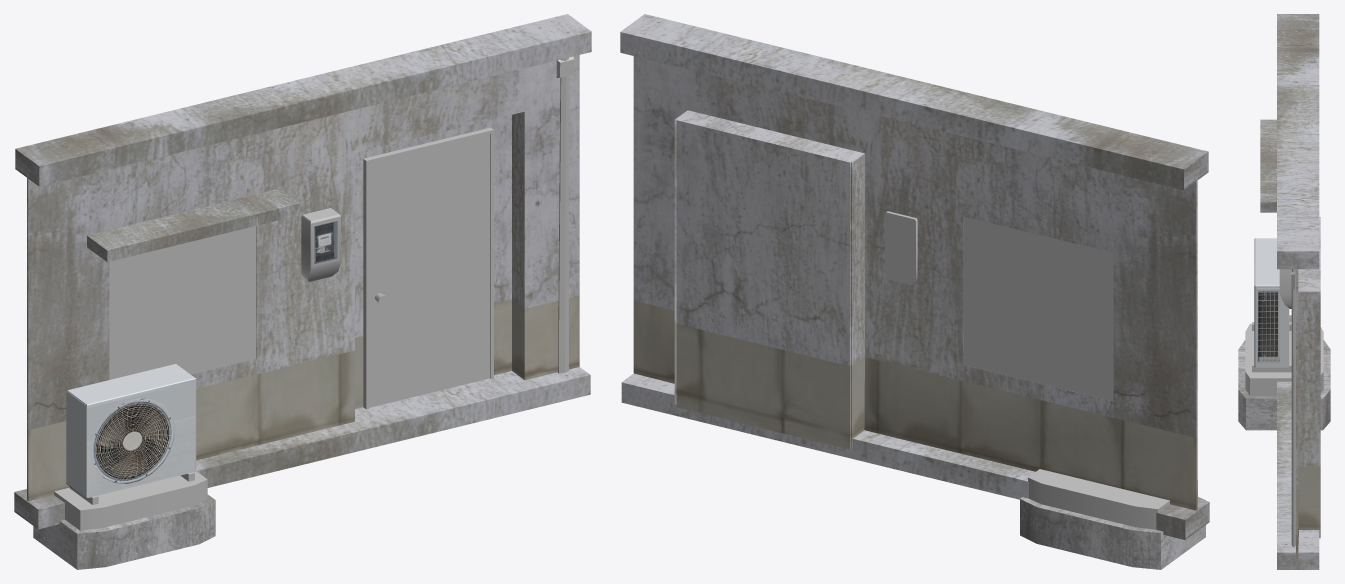
File: shop_f_null04a.fbx
The picture shows the model from 3 angles, left to right: view 1: azimuth 30°, elevation 25°; view 2: azimuth 150°, elevation 25°; view 3: azimuth 270°, elevation 25°; orthographic projection. The views are drawn at different scales.
Parts seen in each view (by area): view 1: shop_f_null04a; view 2: shop_f_null04a; view 3: shop_f_null04a.
Part boxes in pixels (left/top/right/bottom): shop_f_null04a: left=14, top=14, right=591, bottom=569; shop_f_null04a: left=620, top=14, right=1209, bottom=569; shop_f_null04a: left=1238, top=14, right=1330, bottom=569.
Bounding box in the file's own units: 5.47 × 3.73 × 0.8986.
